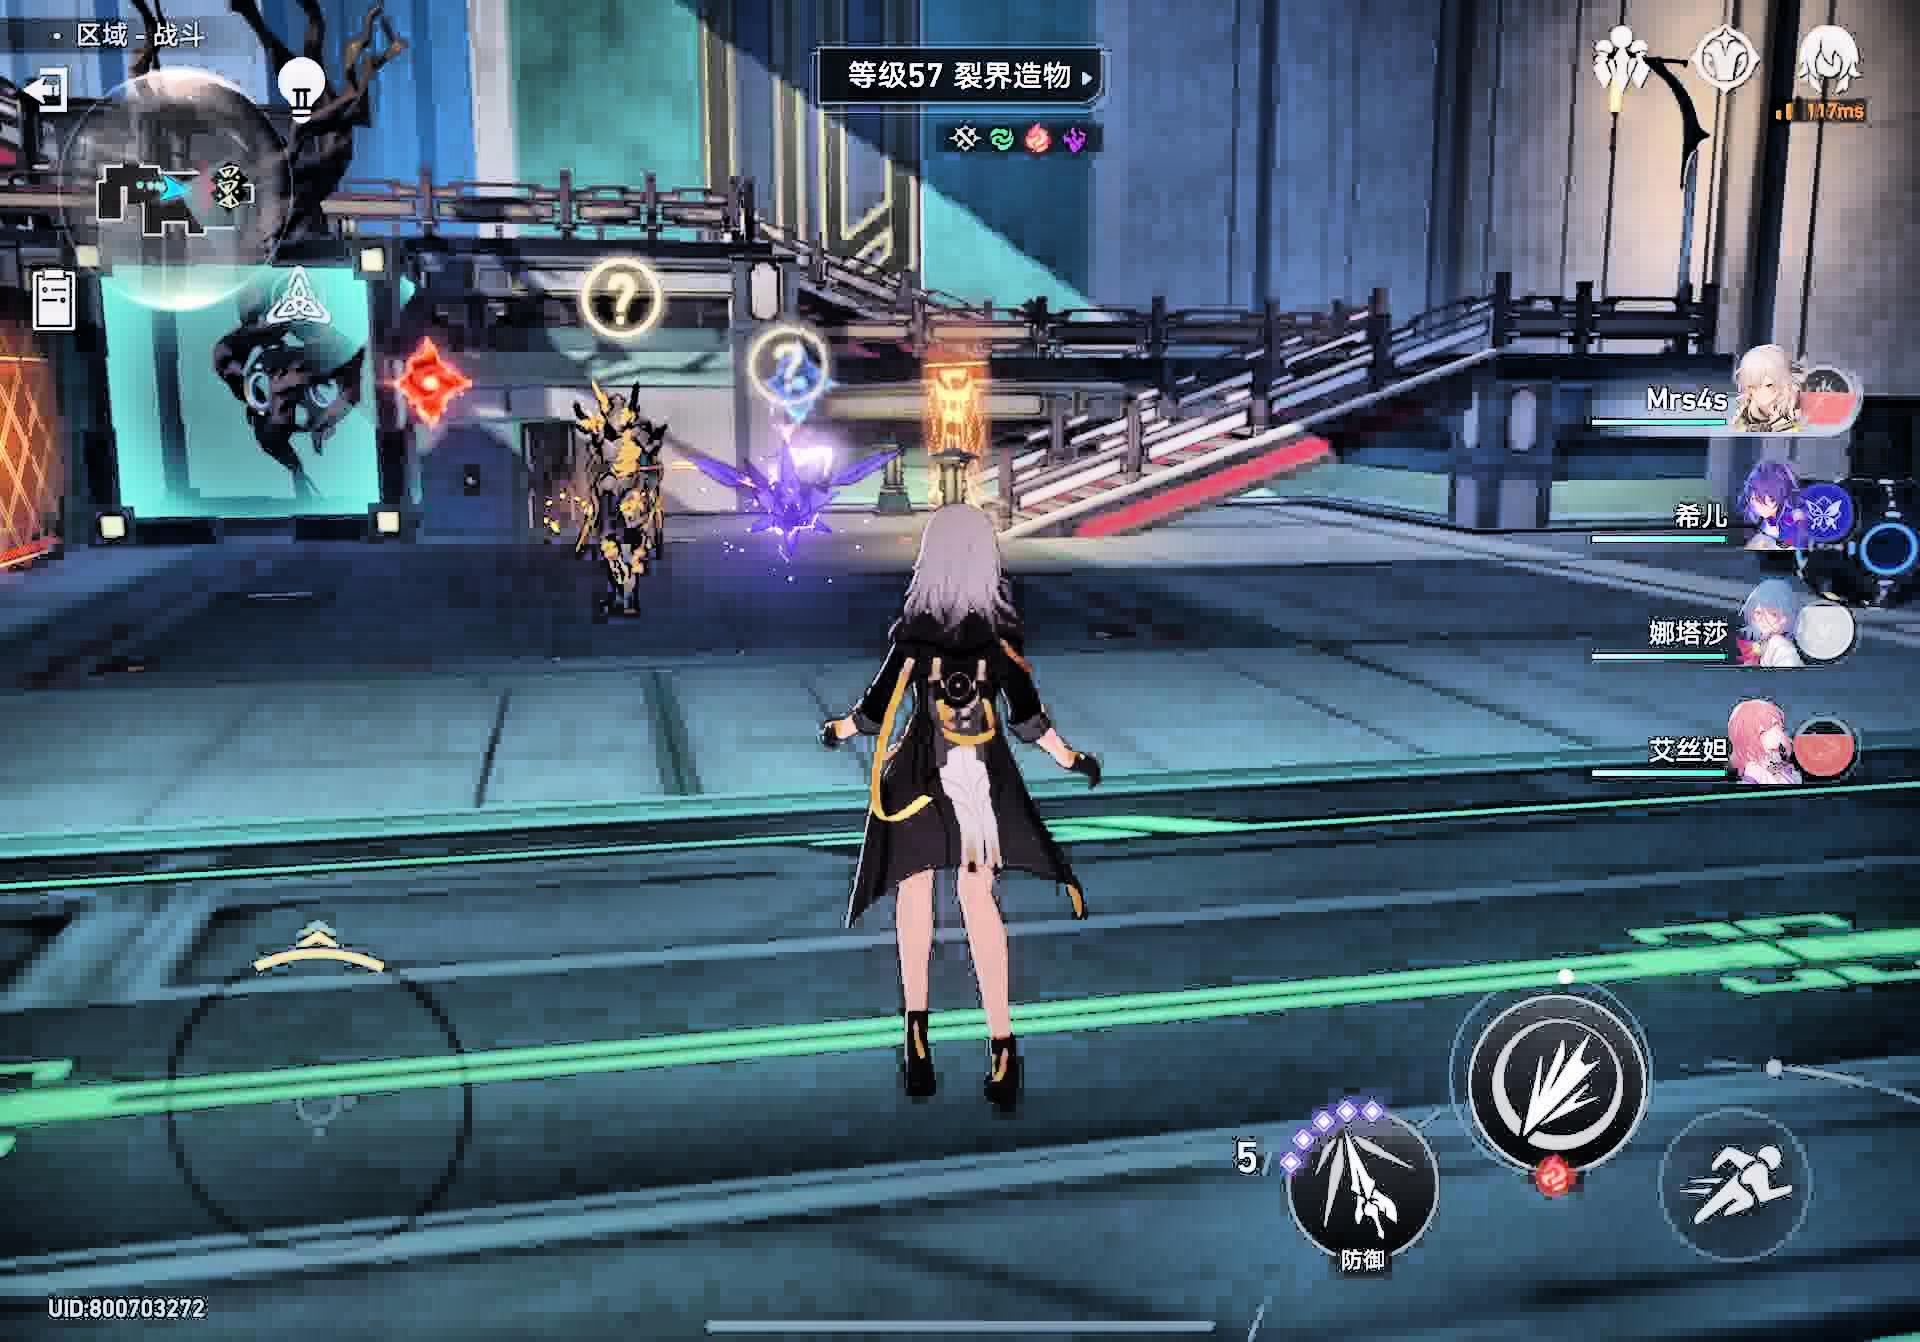BattleDoor: (378, 333, 481, 441)
Enemy: (670, 424, 899, 565), (551, 384, 671, 623)
SafeDoor: (756, 349, 843, 422)
Self: (818, 506, 1103, 1106)
